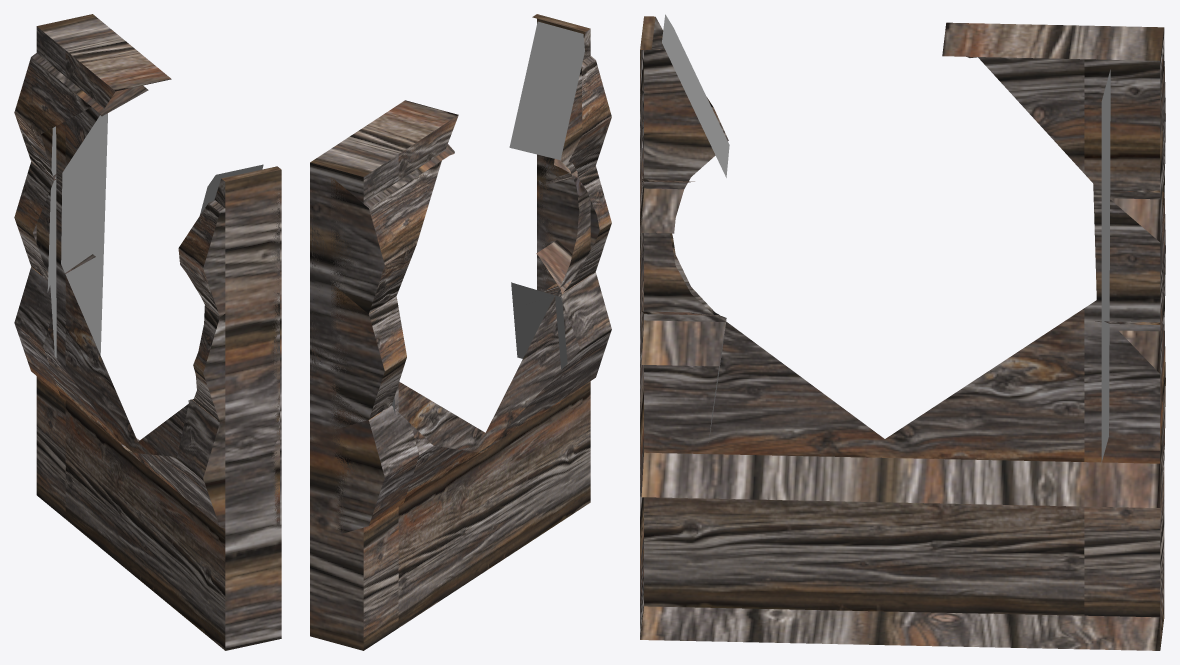
The model's file is Holewall_Right_001.fbx.
The picture shows the model from 3 angles, left to right: view 1: azimuth 30°, elevation 25°; view 2: azimuth 150°, elevation 25°; view 3: azimuth 270°, elevation 25°; orthographic projection. The views are drawn at different scales.
Visible parts, largest first — view 1: Holewall_Right_001; view 2: Holewall_Right_001; view 3: Holewall_Right_001.
Boxes of the visible parts, left/top/right/bottom form: Holewall_Right_001: left=14, top=14, right=281, bottom=650; Holewall_Right_001: left=310, top=14, right=611, bottom=650; Holewall_Right_001: left=640, top=14, right=1165, bottom=650.
Size of the model in its own units: 52.56 by 251 by 202.
